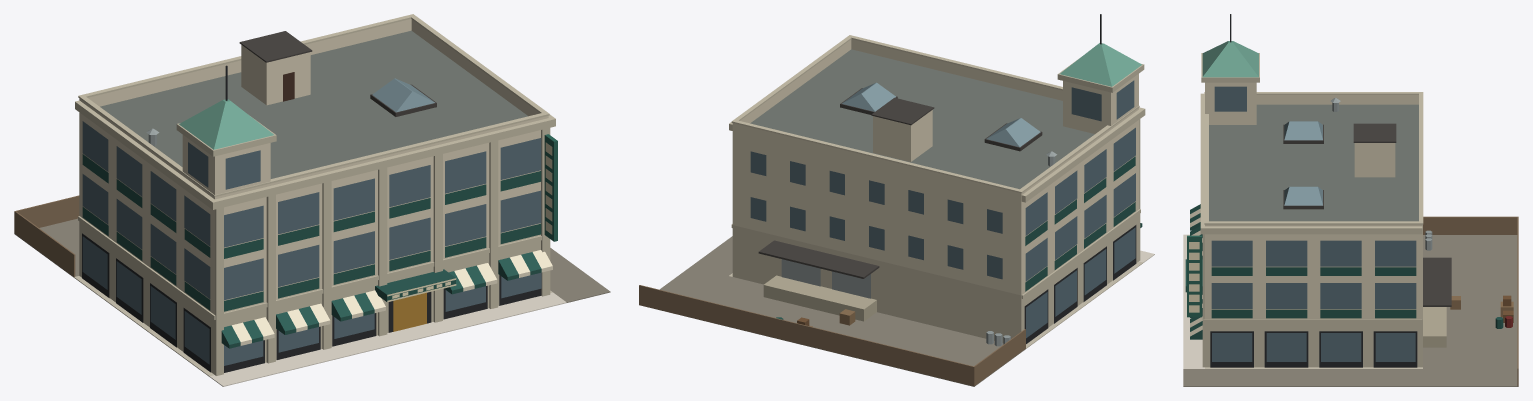
File: store_d.glb
3 renders of one model, left to right at view 1: azimuth 30°, elevation 25°; view 2: azimuth 150°, elevation 25°; view 3: azimuth 270°, elevation 25°, orthographic. The views are drawn at different scales.
Visible parts, largest first — view 1: store_d; view 2: store_d; view 3: store_d.
Boxes of the visible parts, x1,y1,x2,y2 form: store_d: (14,14,610,386); store_d: (639,14,1154,386); store_d: (1183,14,1518,386).
Size of the model in its own units: 30 by 21.55 by 28.
